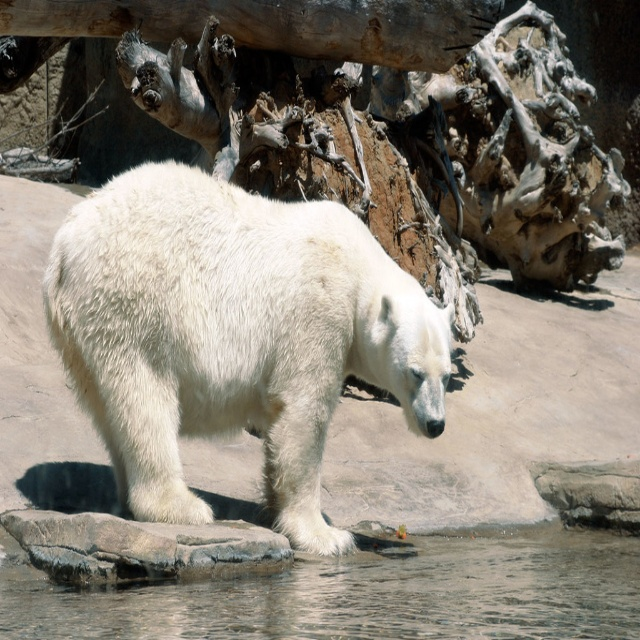Polar bear: (42, 158, 455, 558)
